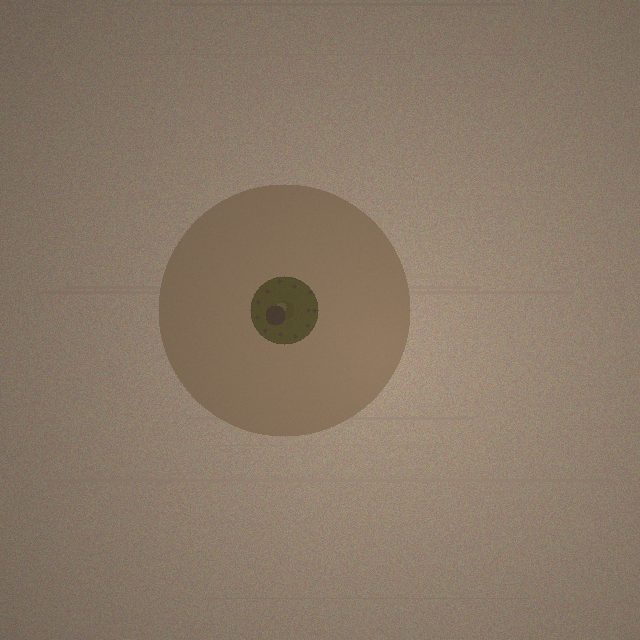cold_weld: (158, 184, 410, 436)
